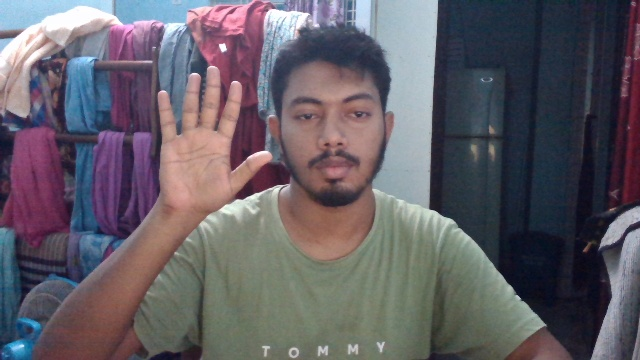hello: (148, 72, 270, 225)
